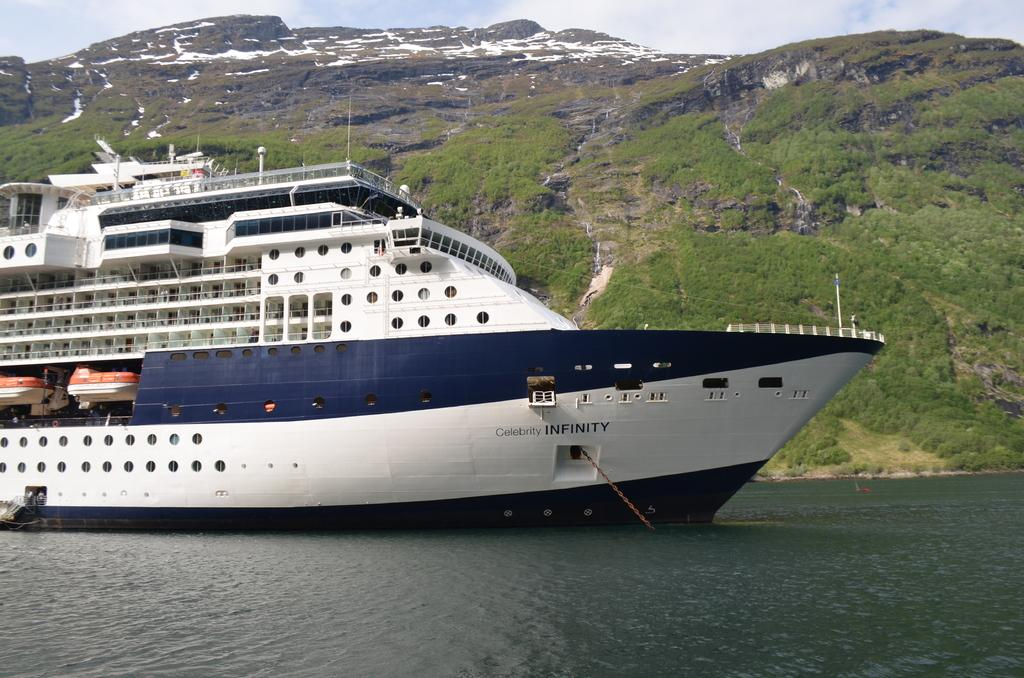PassengerShip: (0, 130, 884, 540)
